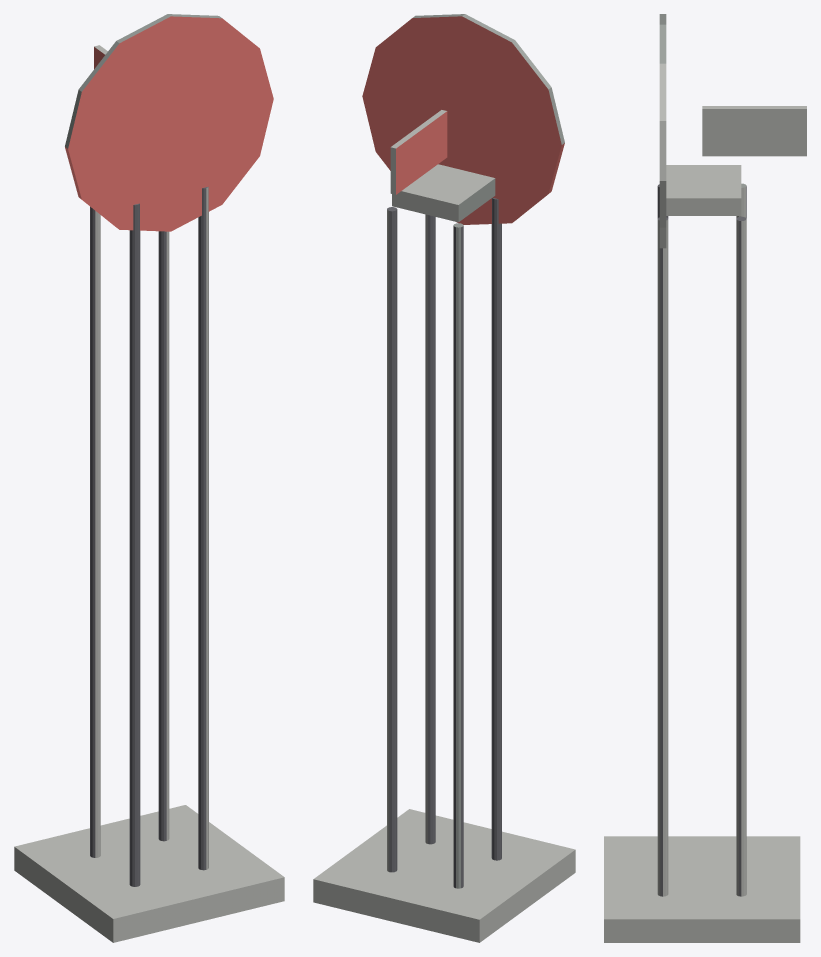
File: windmill_aeromotor.glb
3 renders of one model, left to right at view 1: azimuth 30°, elevation 25°; view 2: azimuth 150°, elevation 25°; view 3: azimuth 270°, elevation 25°, orthographic. The views are drawn at different scales.
Visible parts, largest first — view 1: windmill_aeromotor; view 2: windmill_aeromotor; view 3: windmill_aeromotor.
Part boxes in pixels (x1=…): windmill_aeromotor: x1=14, y1=14, x2=284, y2=942; windmill_aeromotor: x1=313, y1=14, x2=575, y2=942; windmill_aeromotor: x1=604, y1=14, x2=806, y2=942.
Bounding box in the file's own units: 3.6 × 14.8 × 3.1.
